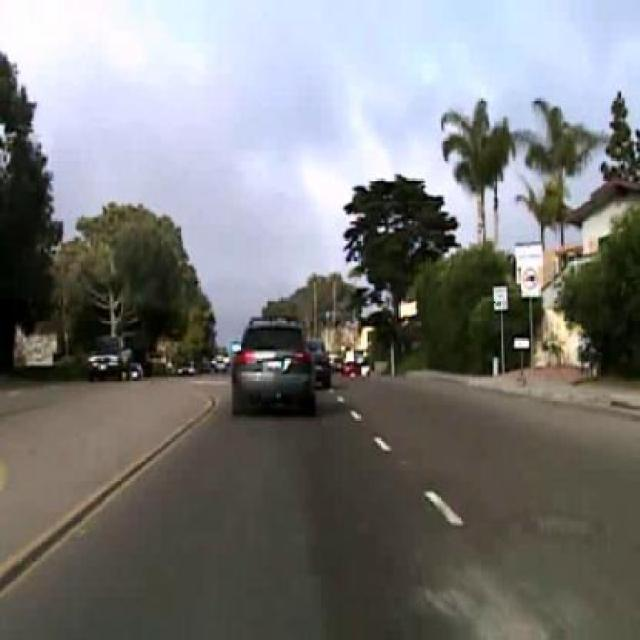speedLimit40: (492, 284, 508, 310)
